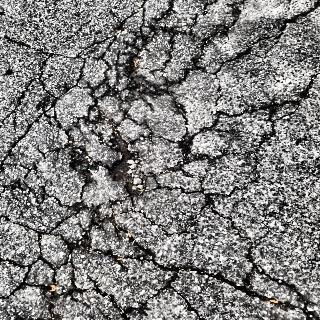alligator-crack: (1, 1, 320, 316)
